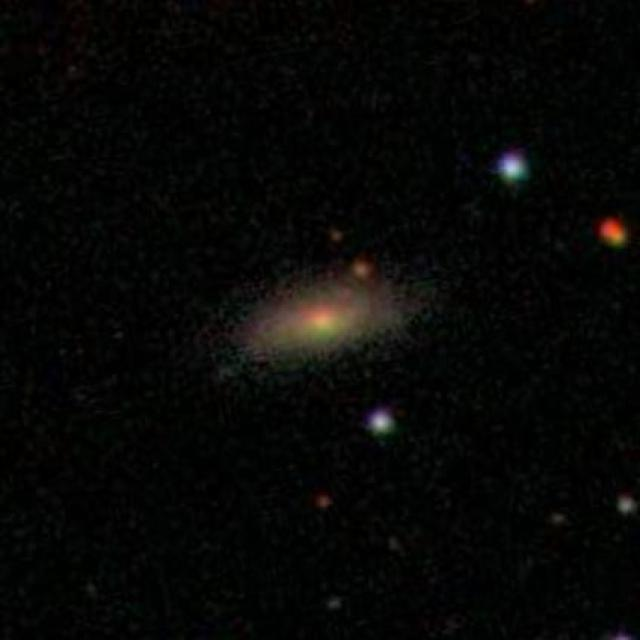galaxy: (189, 218, 481, 390), (493, 146, 537, 191), (363, 405, 400, 442), (598, 216, 631, 256), (350, 259, 377, 283), (315, 487, 337, 516), (615, 494, 637, 519), (386, 535, 403, 555), (323, 597, 344, 613), (329, 226, 345, 245), (552, 513, 566, 526)
